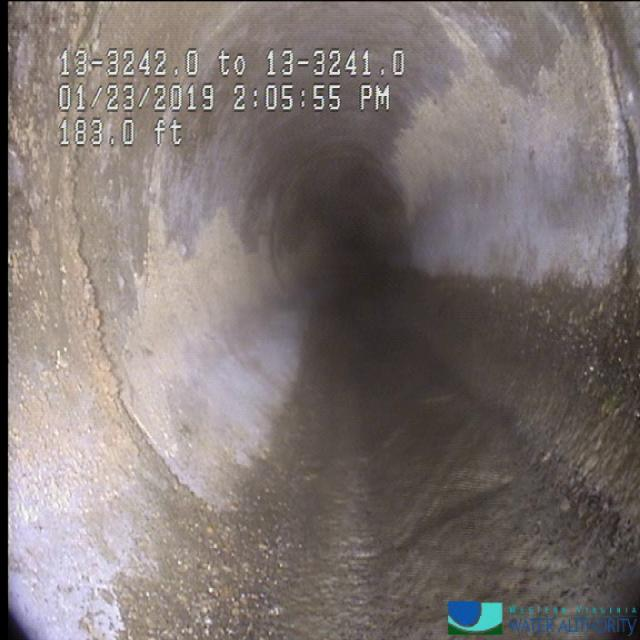Crack: (62, 187, 204, 502)
